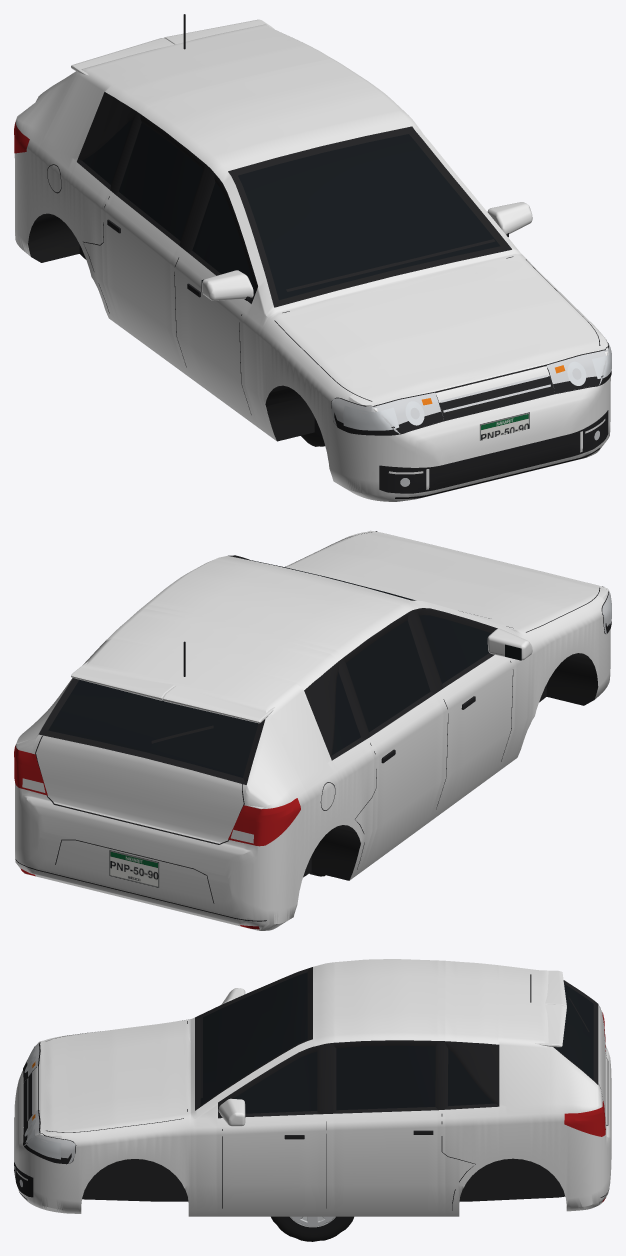
File: volkswagen-gol.glb
3 renders of one model, top to bottom at view 1: azimuth 30°, elevation 25°; view 2: azimuth 150°, elevation 25°; view 3: azimuth 270°, elevation 25°, orthographic. The views are drawn at different scales.
Parts seen in each view (by area): view 1: body; view 2: body; view 3: body, wheel.
Part boxes in pixels (x1,y1,x2,y2): body: [14, 14, 611, 501]; body: [14, 530, 611, 930]; body: [14, 959, 611, 1216]; wheel: [271, 1216, 353, 1241].
Size of the model in its own units: 1.95 by 1.89 by 3.89.
Materials: 1 (1 with a texture image).
